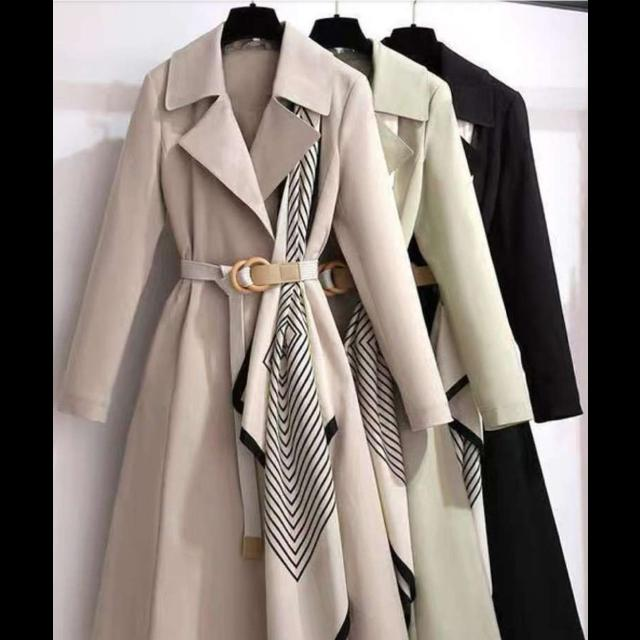jacket: (78, 31, 384, 640), (393, 28, 582, 638), (316, 22, 496, 640)
